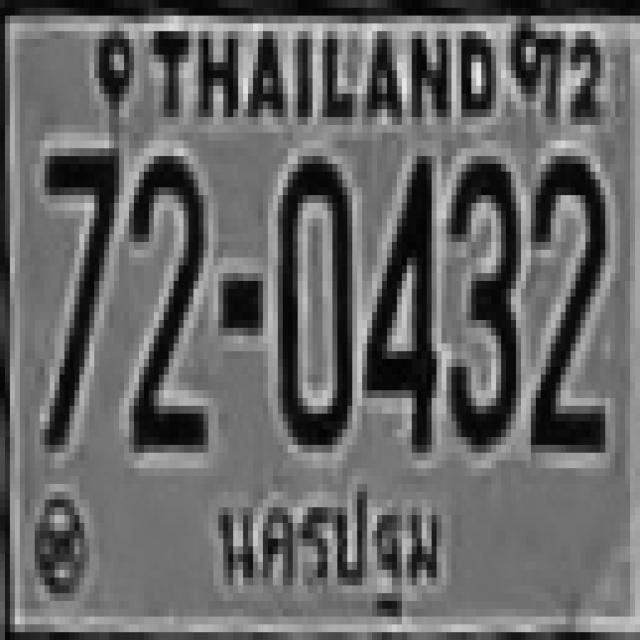0: (273, 152, 347, 441)
2: (126, 148, 201, 445), (528, 148, 603, 445)
3: (446, 156, 516, 445)
4: (362, 148, 432, 445)
7: (40, 148, 114, 445), (40, 145, 114, 355)
NakhonPathom: (205, 467, 454, 630)
